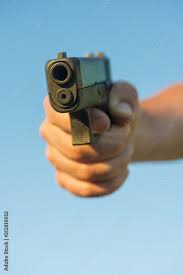gun: (37, 49, 138, 199)
